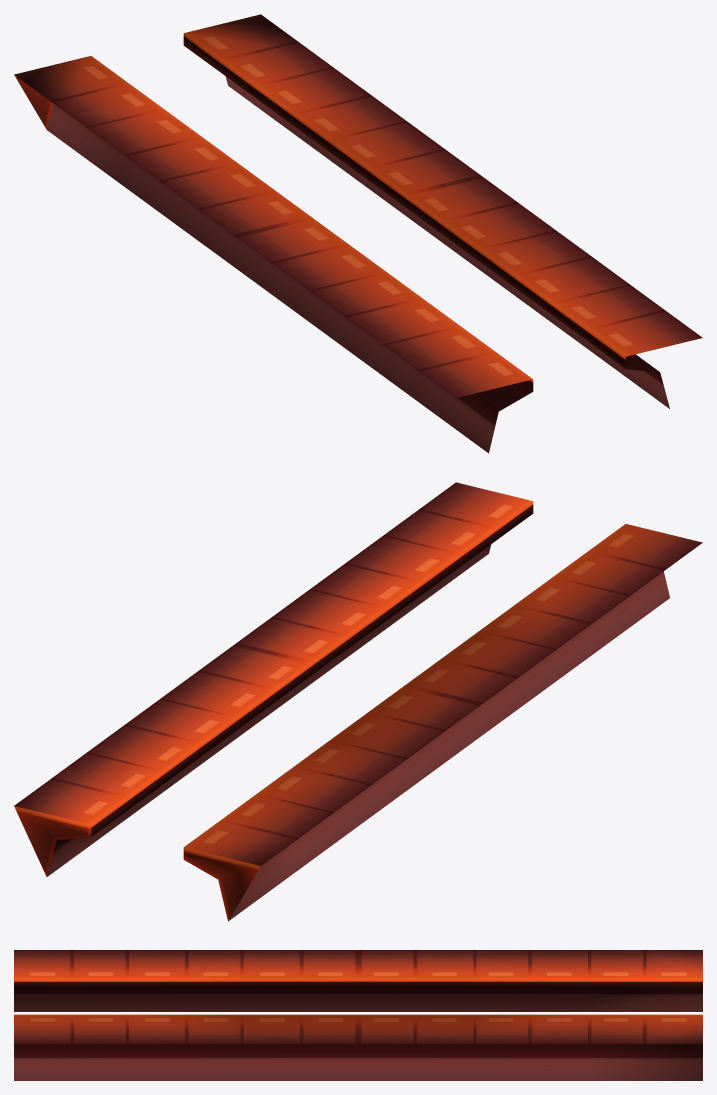
The model's file is station.fbx.
The picture shows the model from 3 angles, top to bottom: view 1: azimuth 30°, elevation 25°; view 2: azimuth 150°, elevation 25°; view 3: azimuth 270°, elevation 25°; orthographic projection. The views are drawn at different scales.
Parts seen in each view (by area): view 1: station_obj; view 2: station_obj; view 3: station_obj.
Part boxes in pixels (x1,y1,x2,y2): station_obj: (14,14,702,453); station_obj: (14,482,702,921); station_obj: (14,950,702,1080).
Size of the model in its own units: 5805 by 1426 by 18000.
1 material, 1 textured.
